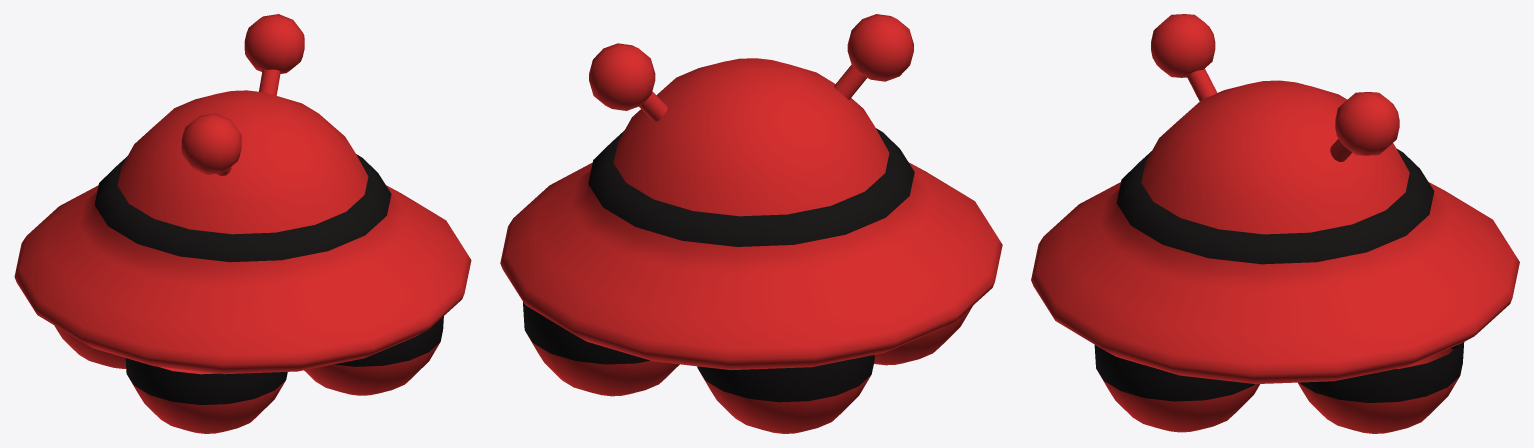
Rendered from Warp_Model.FBX.
The picture shows the model from 3 angles, left to right: view 1: azimuth 30°, elevation 25°; view 2: azimuth 150°, elevation 25°; view 3: azimuth 270°, elevation 25°; orthographic projection. The views are drawn at different scales.
Visible parts, largest first — view 1: Object003; view 2: Object003; view 3: Object003.
Boxes of the visible parts, x1,y1,x2,y2 form: Object003: [14, 14, 471, 433]; Object003: [500, 14, 1002, 433]; Object003: [1031, 14, 1519, 433].
Bounding box in the file's own units: 82.27 × 61.47 × 82.27.
